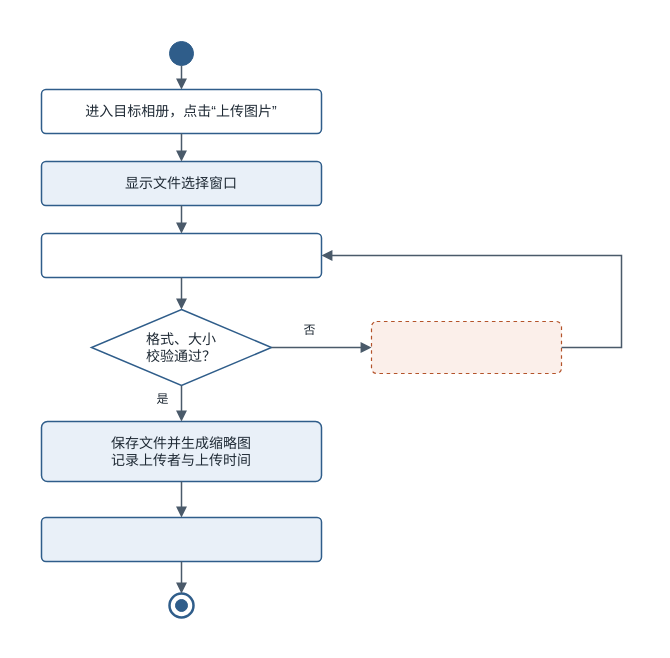
This 670x658 diagram has some shape labels left out. Here are the shapes that lost their labels. From the top down, the centre of each, then its label:
the point at 181,255: 选择本地图片文件并提交
the point at 466,347: 仅支持 jpg/png/gif 且不超过 10MB
the point at 181,539: 提示上传成功，照片显示在相册中
